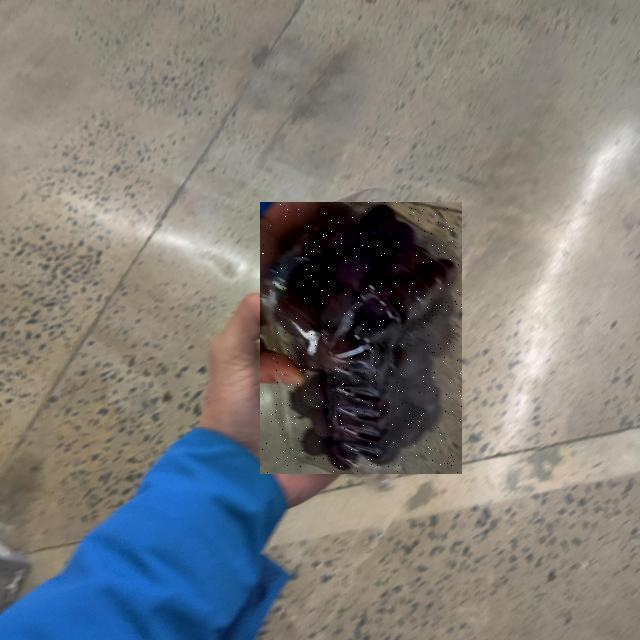Grapes: (260, 202, 462, 474)
